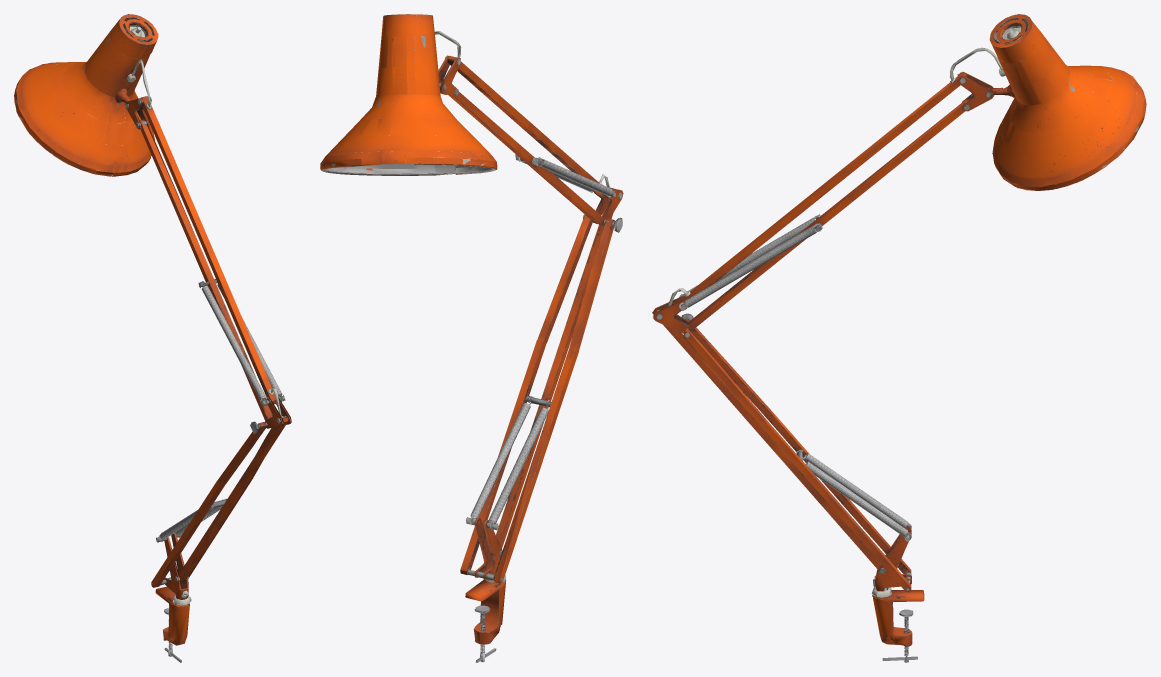
Rendered from desk_lamp_arm_01_leve.gltf.
3 renders of one model, left to right at view 1: azimuth 30°, elevation 25°; view 2: azimuth 150°, elevation 25°; view 3: azimuth 270°, elevation 25°, orthographic. The views are drawn at different scales.
Visible parts, largest first — view 1: desk_lamp_arm_01; view 2: desk_lamp_arm_01; view 3: desk_lamp_arm_01.
Boxes of the visible parts, left/top/right/bottom form: desk_lamp_arm_01: left=14, top=14, right=291, bottom=662; desk_lamp_arm_01: left=320, top=14, right=623, bottom=662; desk_lamp_arm_01: left=652, top=14, right=1146, bottom=662.
Bounding box in the file's own units: 0.2021 × 0.8927 × 0.6155.
Materials: 2 (2 with a texture image).
